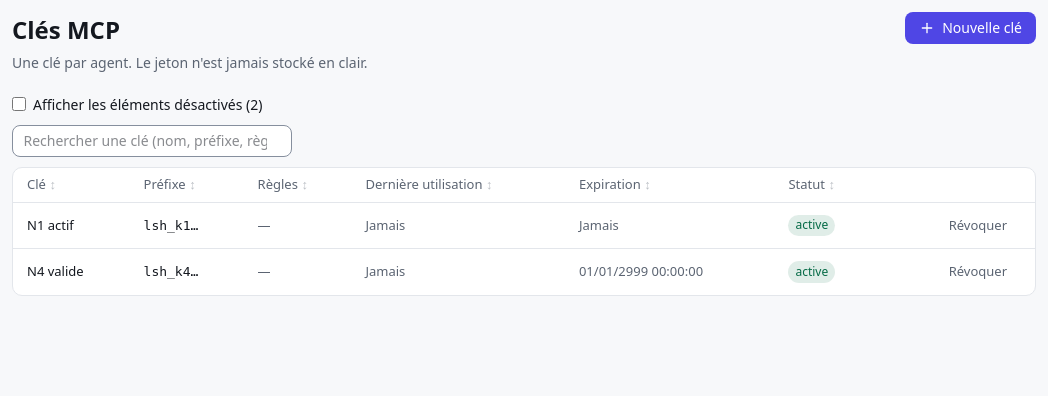
Test: les éléments inactifs ne sont jamais proposés › clés MCP: révoquées et expirées masquées par défaut, ré-affichables
The image size is (1048, 396).
Expected: the text "N1 actif" is shown, left=27, top=216, right=74, bottom=234
Expected: the text "N4 valide" is shown, left=27, top=262, right=84, bottom=280
Click the checkbox labelled "Afficher les éléments désactivés (2)": (19, 104) left=12, top=97, right=26, bottom=111
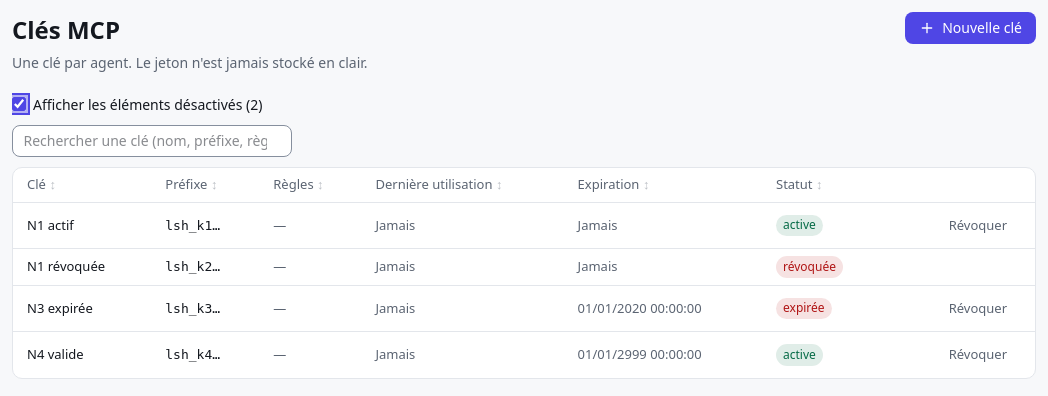
Now the text "N1 révoquée" is shown, box left=27, top=257, right=105, bottom=275
Now the text "N3 expirée" is shown, box left=27, top=298, right=93, bottom=316
